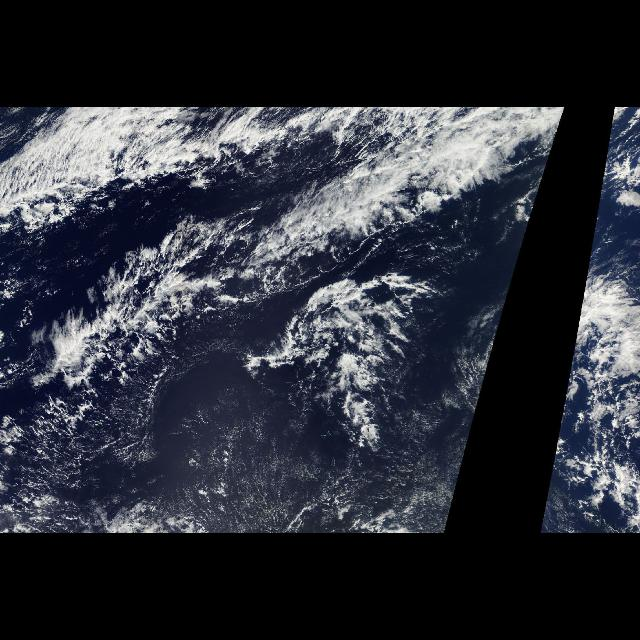Fish: (3, 107, 557, 471)
Gravel: (0, 406, 94, 530)
Sugar: (112, 406, 328, 530)
